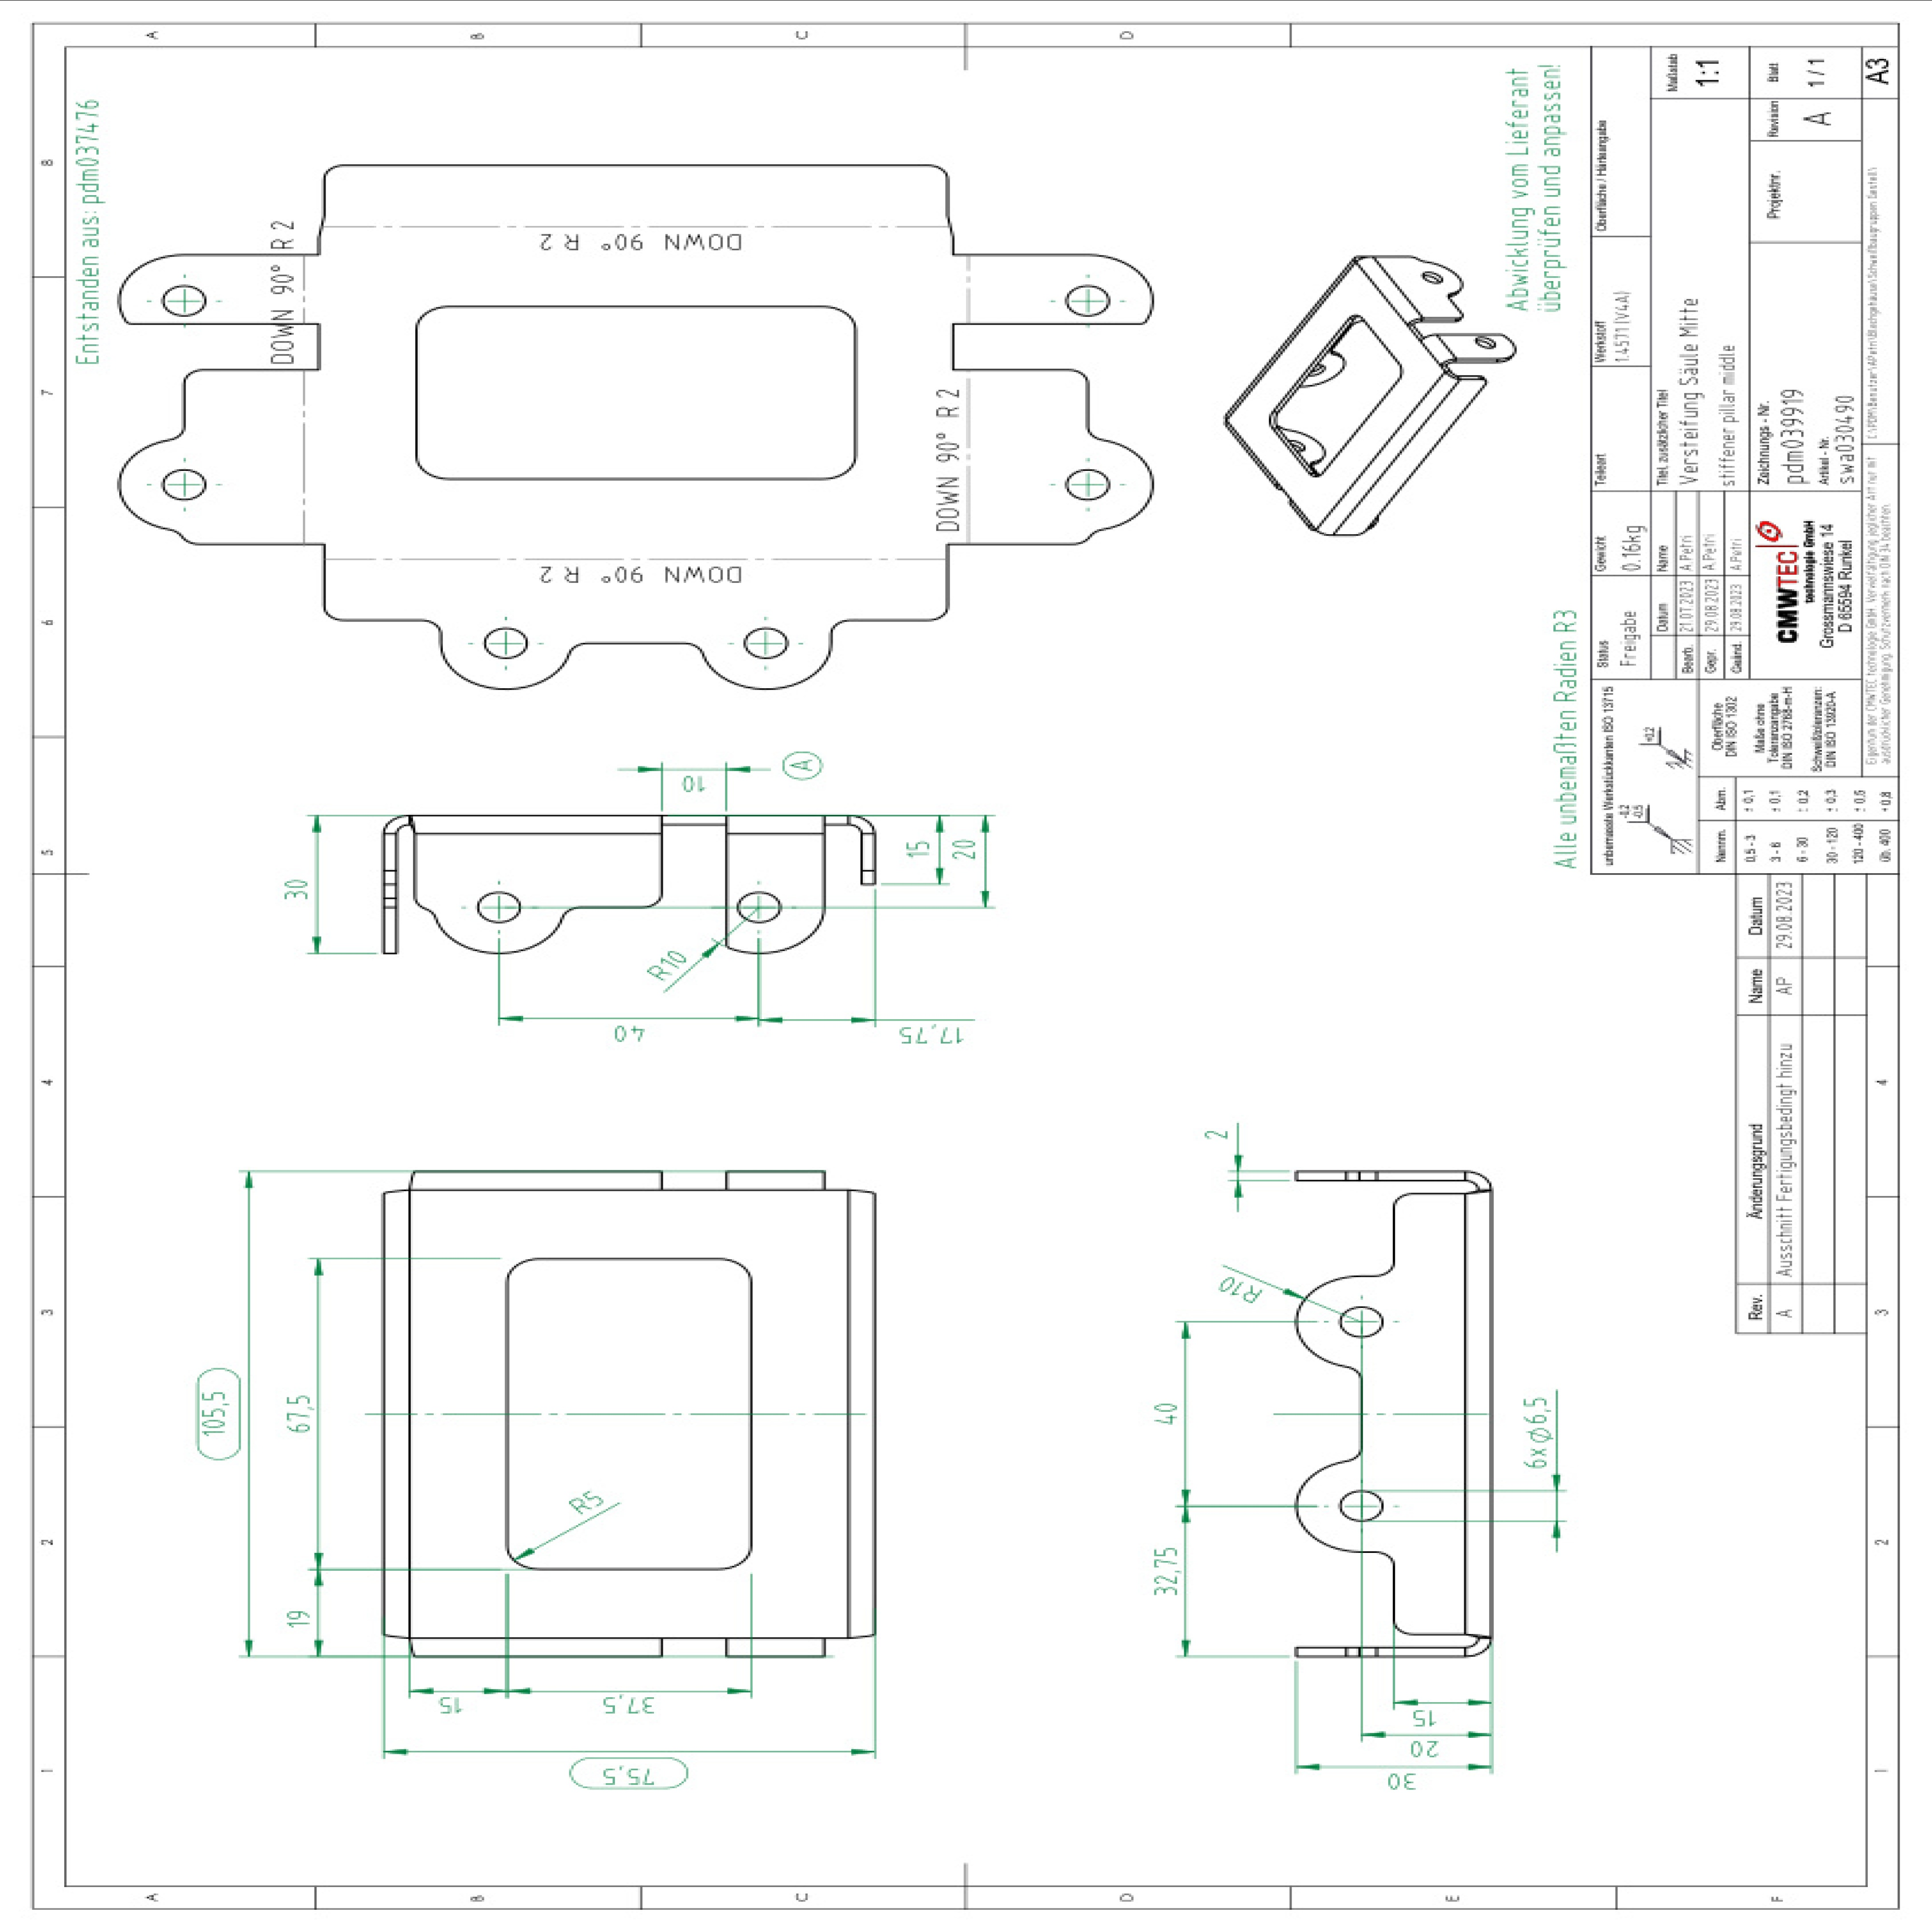BendingEdgeCurve: (1463, 1166, 1493, 1196), (380, 816, 418, 837), (846, 814, 879, 837), (1463, 1633, 1495, 1656)
InnerContour: (738, 621, 793, 662), (734, 886, 784, 929), (1062, 280, 1115, 318), (471, 888, 522, 927), (479, 625, 533, 662), (1063, 464, 1113, 502), (157, 465, 209, 502), (157, 283, 211, 318), (1336, 1304, 1385, 1341), (1336, 1490, 1385, 1523)
InnerContourAngular: (407, 297, 869, 490), (501, 1256, 759, 1575)
Notch: (945, 313, 1155, 382), (115, 315, 331, 380), (658, 817, 734, 954), (1299, 1346, 1366, 1484), (541, 639, 731, 679)
